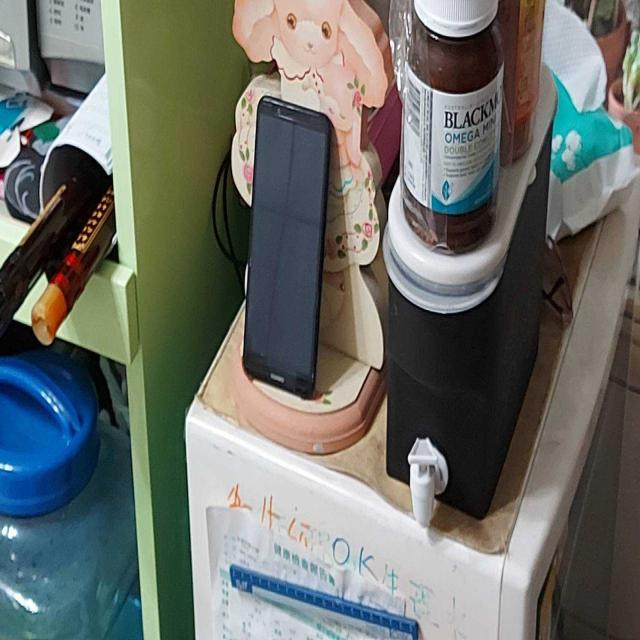Smartphone: (225, 87, 344, 424)
